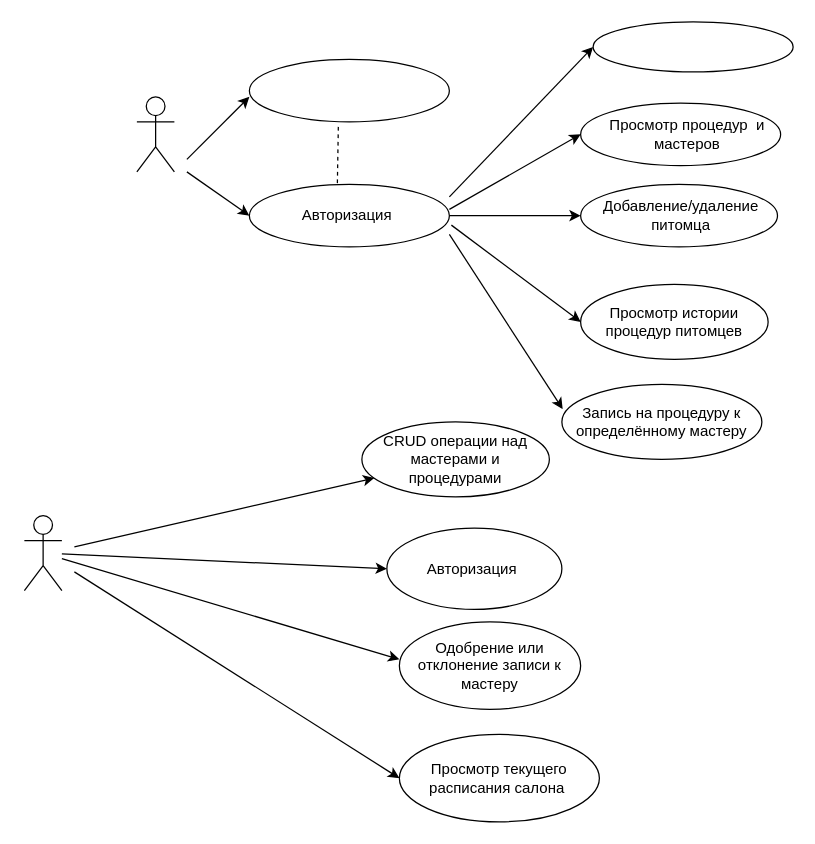
This 815x844 diagram has some shape labels left out. Each missing label, with the box of its shape:
Admin: (23, 514, 62, 591)
User: (136, 96, 174, 172)
Оценка работы мастера: (592, 21, 793, 72)
Регитрация: (248, 58, 449, 122)
